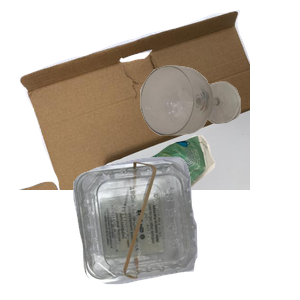cardboard: (16, 10, 256, 190)
glass: (138, 63, 300, 191)
plastic: (71, 154, 300, 300)
trash: (84, 133, 292, 300)
